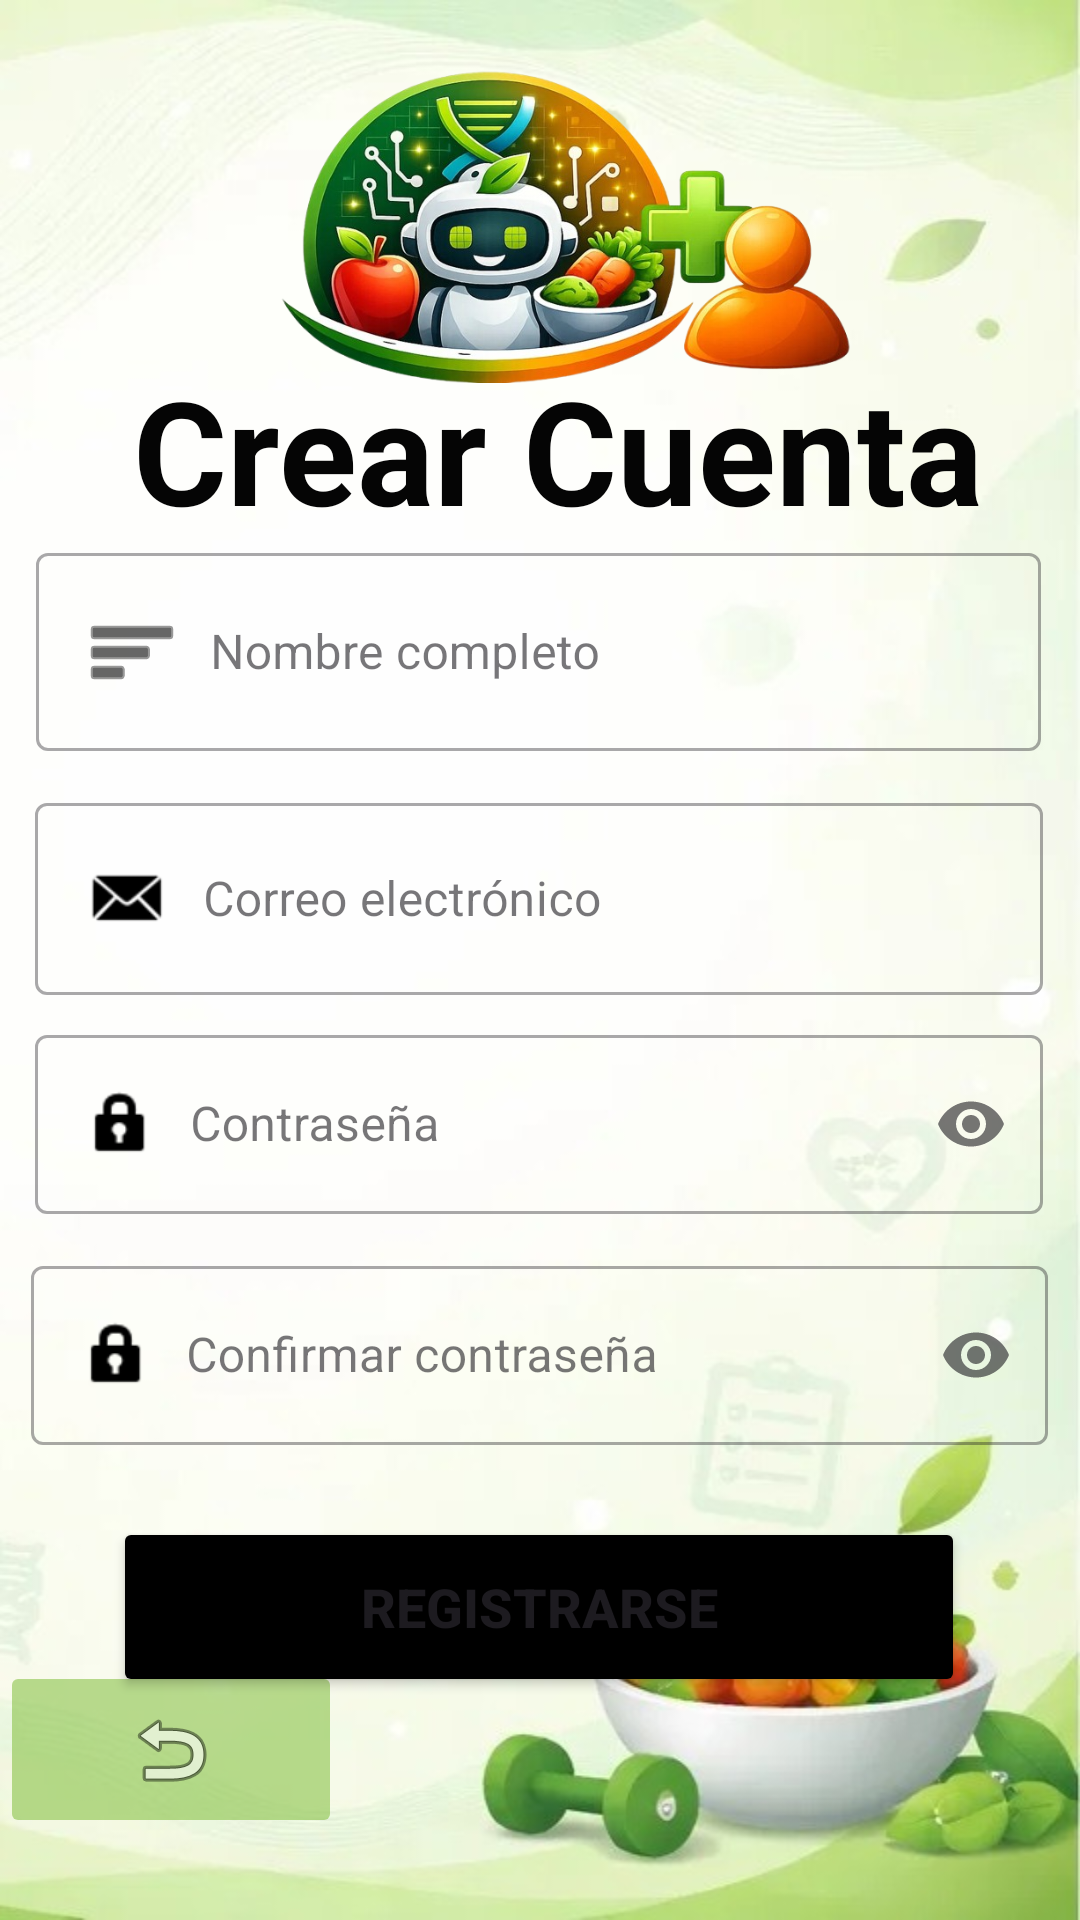

Icons on this 1080*1920 Android screen, each with the point to tap as (x,y):
revert: (171,1749)
